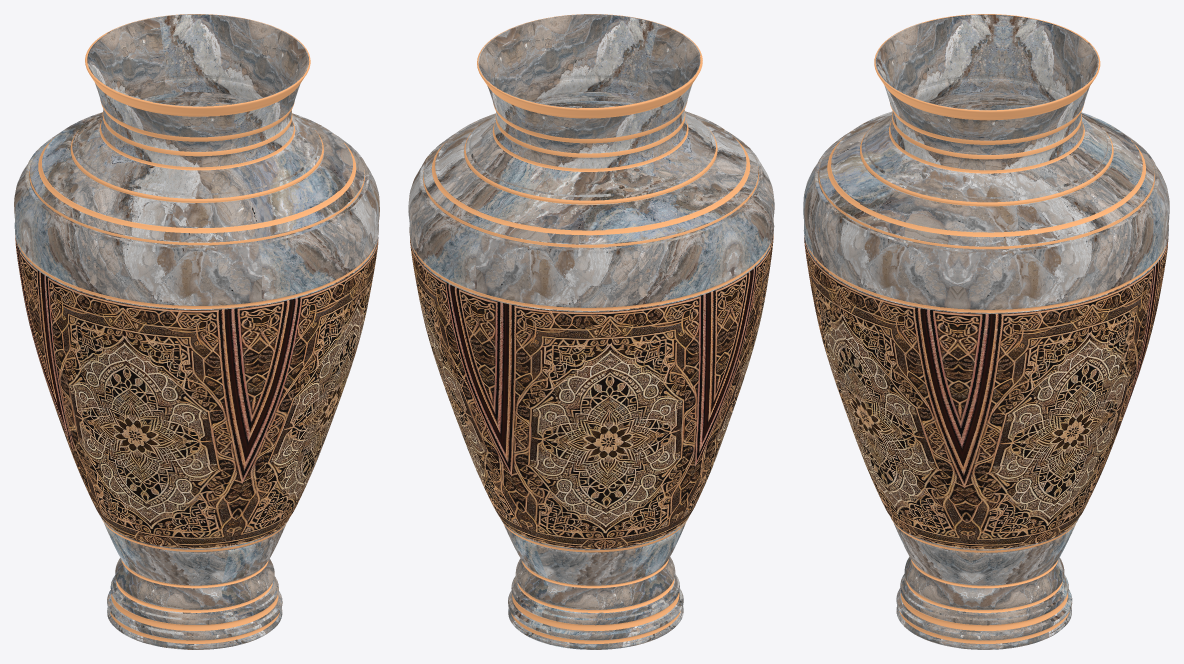
Rendered from vase.glb.
3 views of the same model, side by side, from view 1: azimuth 30°, elevation 25°; view 2: azimuth 150°, elevation 25°; view 3: azimuth 270°, elevation 25° (orthographic).
Parts seen in each view (by area): view 1: ROMAN VASE; view 2: ROMAN VASE; view 3: ROMAN VASE.
Boxes of the visible parts, bbox=[...] form: ROMAN VASE: bbox=[14, 14, 379, 649]; ROMAN VASE: bbox=[408, 14, 774, 649]; ROMAN VASE: bbox=[803, 14, 1169, 649].
Bounding box in the file's own units: 1.18 × 1.99 × 1.18.
Materials: 3 (2 with a texture image).
